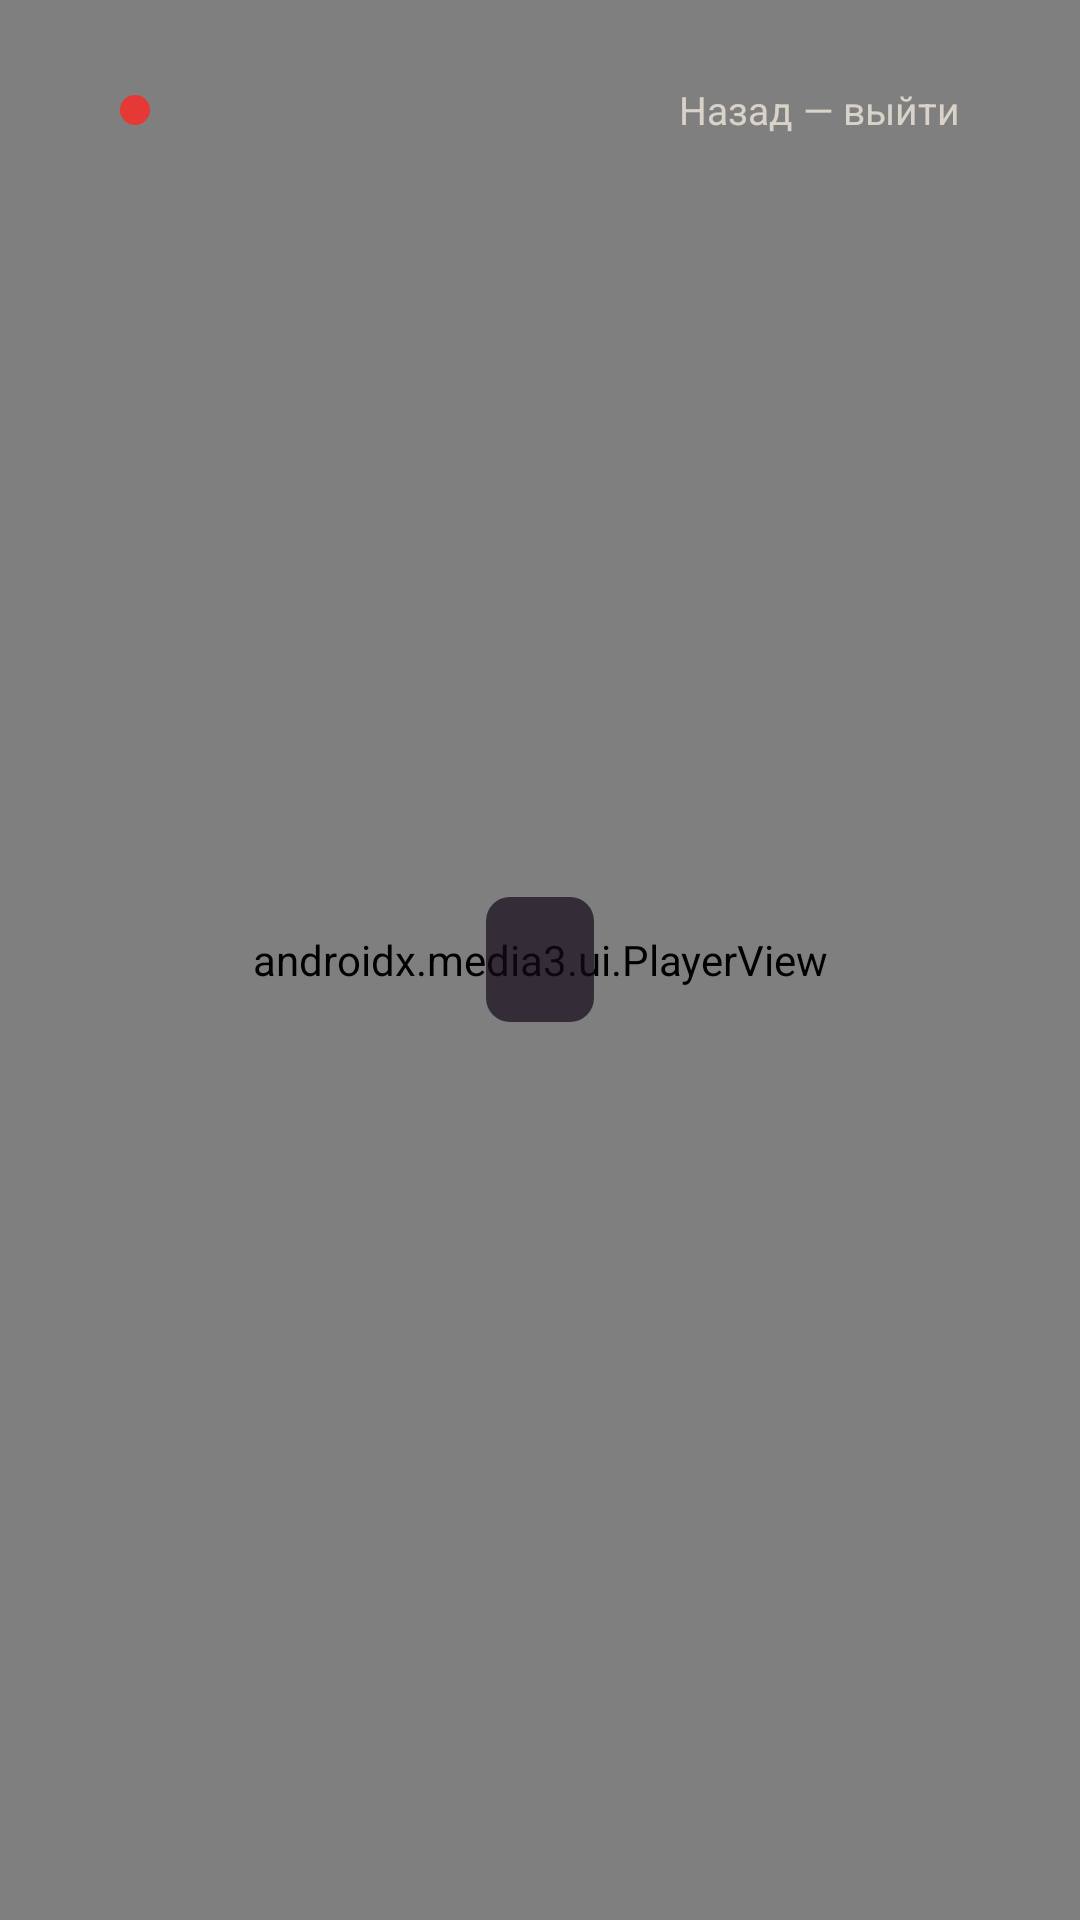

Point at icon controls on the screen. Image size 1080*1920, points as point (x, y).
live dot: point (135, 110)
